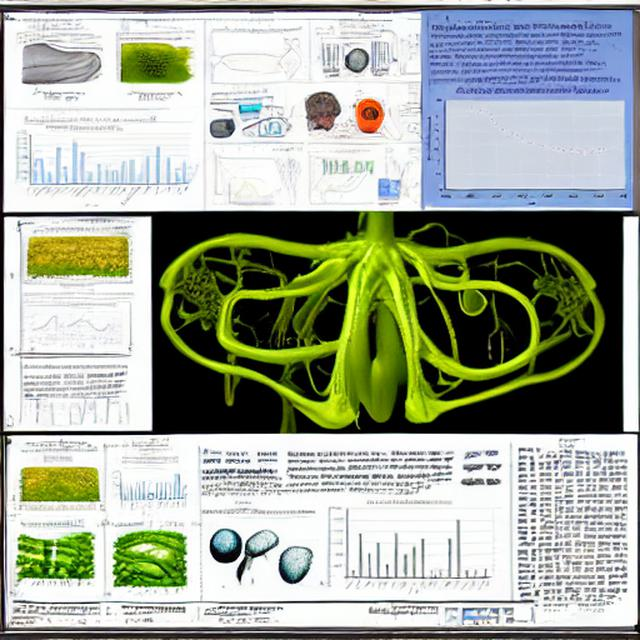Graph: (426, 87, 632, 206), (325, 497, 492, 597), (14, 126, 154, 209), (108, 460, 187, 516), (52, 305, 125, 347), (316, 148, 375, 185), (205, 56, 261, 89), (222, 177, 275, 208)
